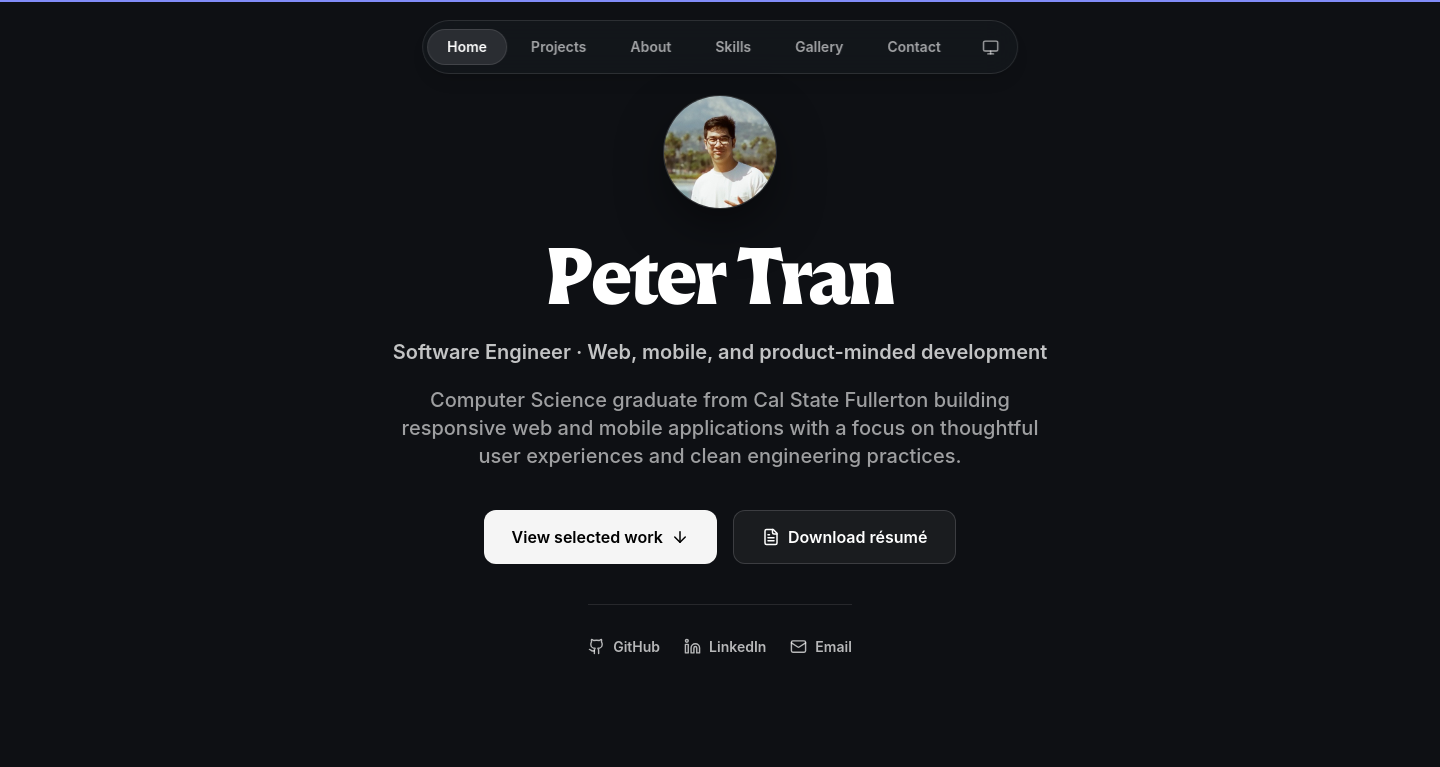
Test: contact form reports what is wrong instead of failing silently
The width and height of the screenshot is (1440, 767).
Click the link "Contact". click: {"x": 914, "y": 46}
box: [887, 38, 941, 55]
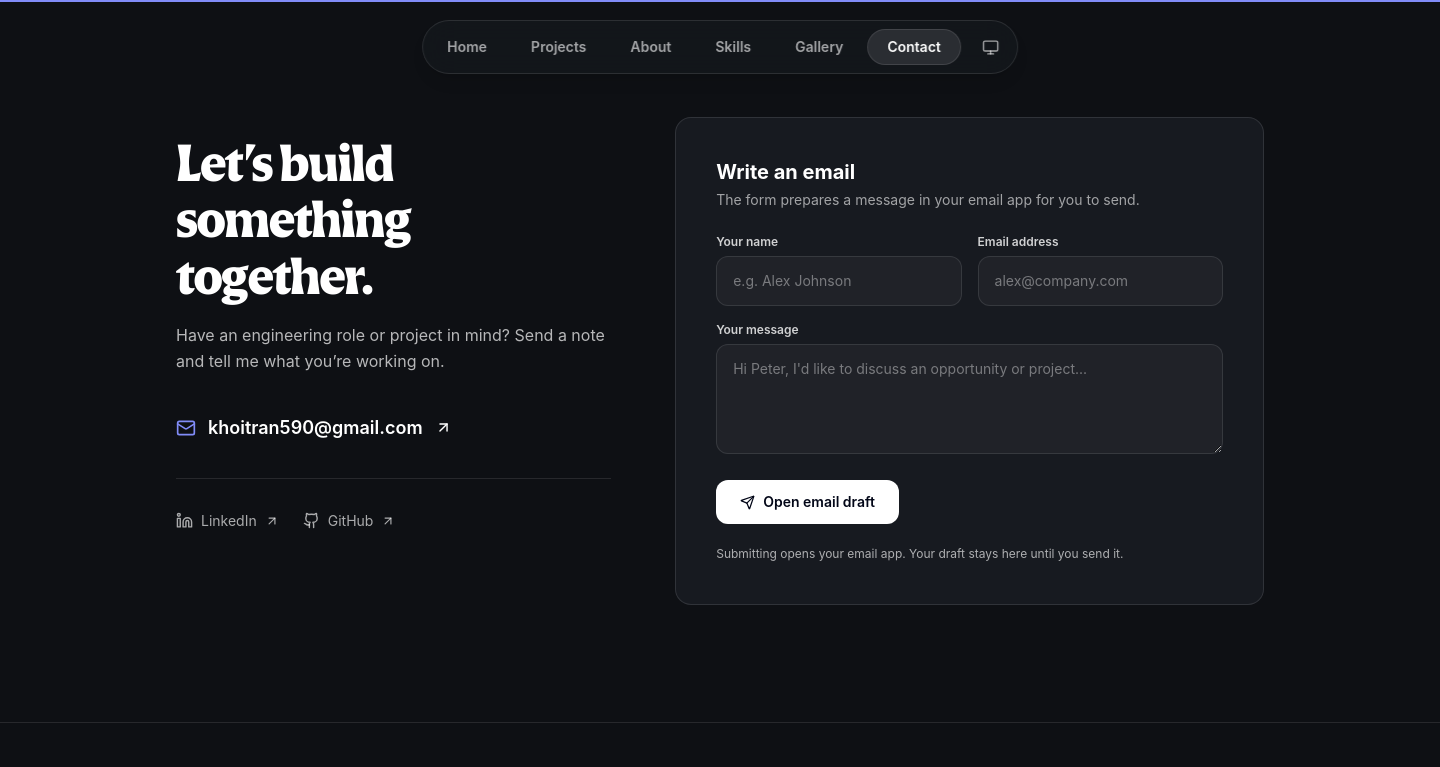
Check: the link "Contact" is marked as current, box [867, 29, 961, 65]
Click the button "Open email draft". click: {"x": 808, "y": 502}
box: [716, 480, 899, 524]
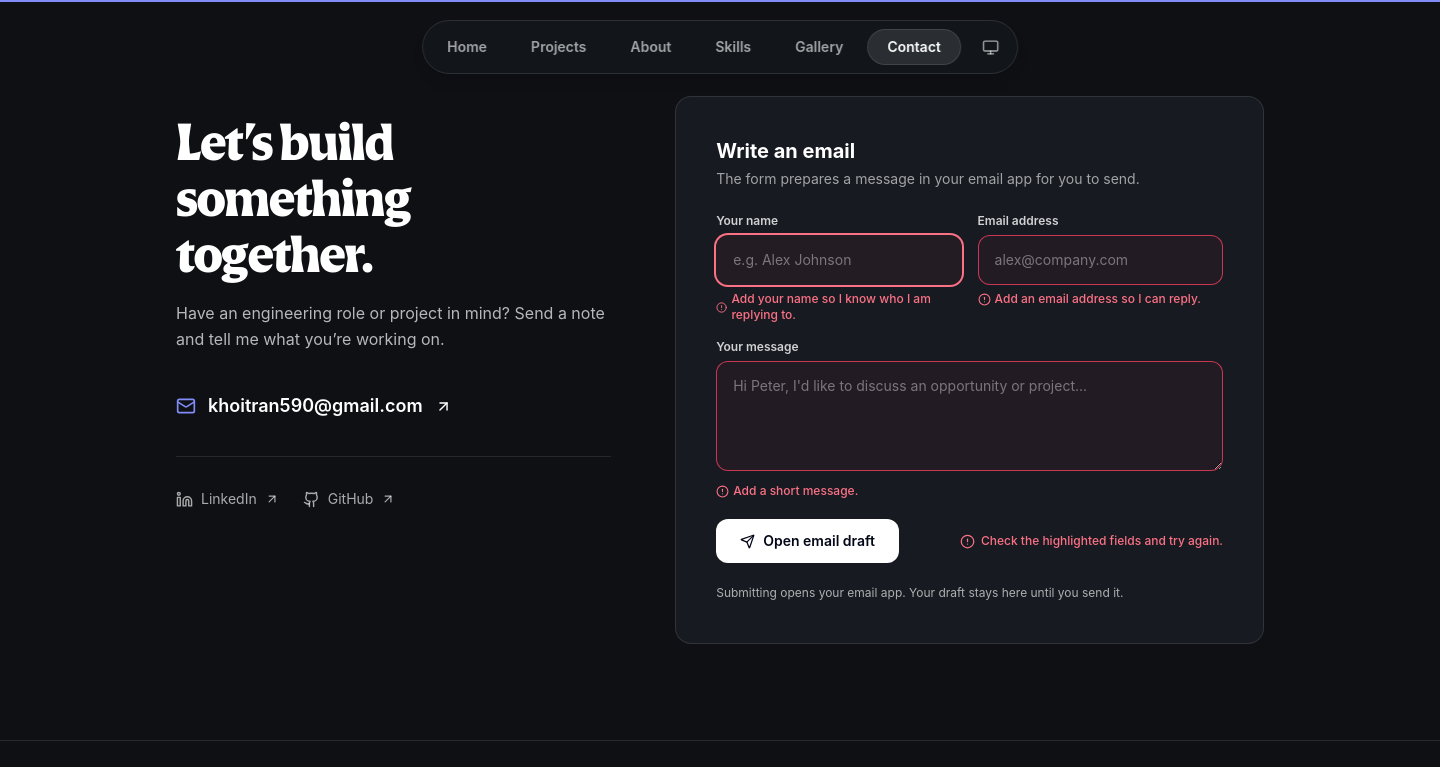
Check: the text "Add your name so I know who I am replying to." is shown, box [716, 291, 962, 323]
Check: the text "Add an email address so I can reply." is shown, box [978, 291, 1223, 307]
Check: the text "Add a short message." is shown, box [716, 483, 858, 498]
Type "not-an-email" into the field labelled "Email address". click: {"x": 1100, "y": 260}
box: [978, 235, 1223, 285]
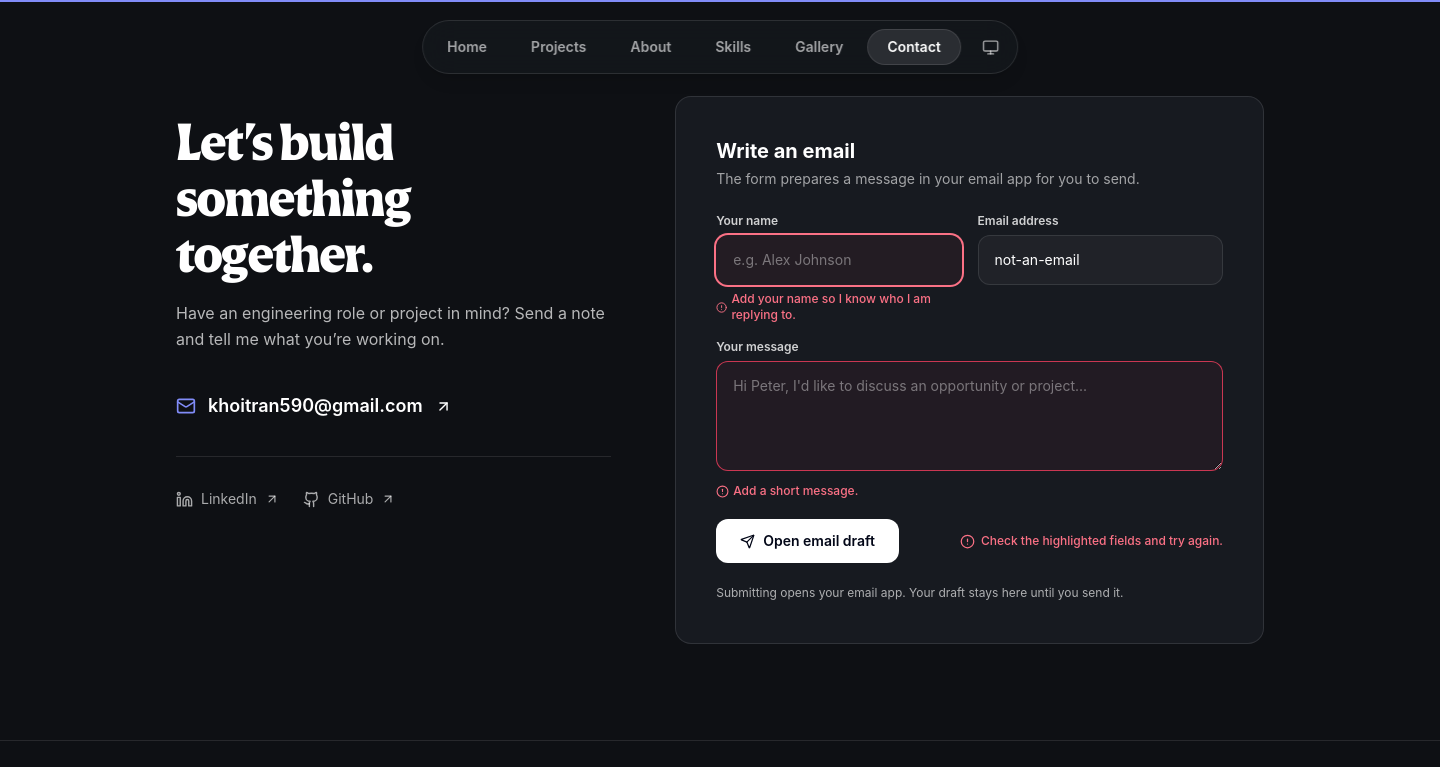
Leave the field labelled "Email address", box [978, 235, 1223, 285]
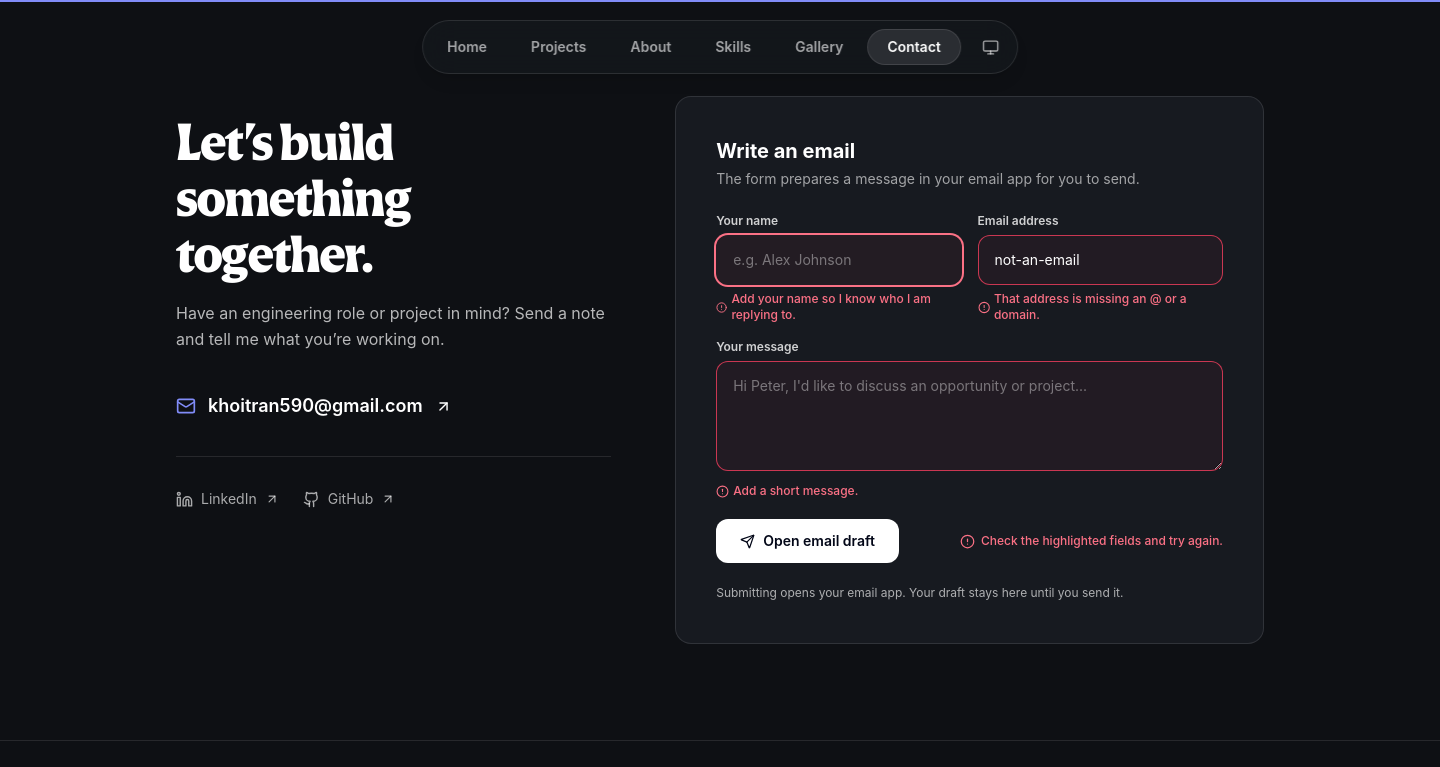
Check: the text "That address is missing an @ or a domain." is shown, box [978, 291, 1223, 323]
